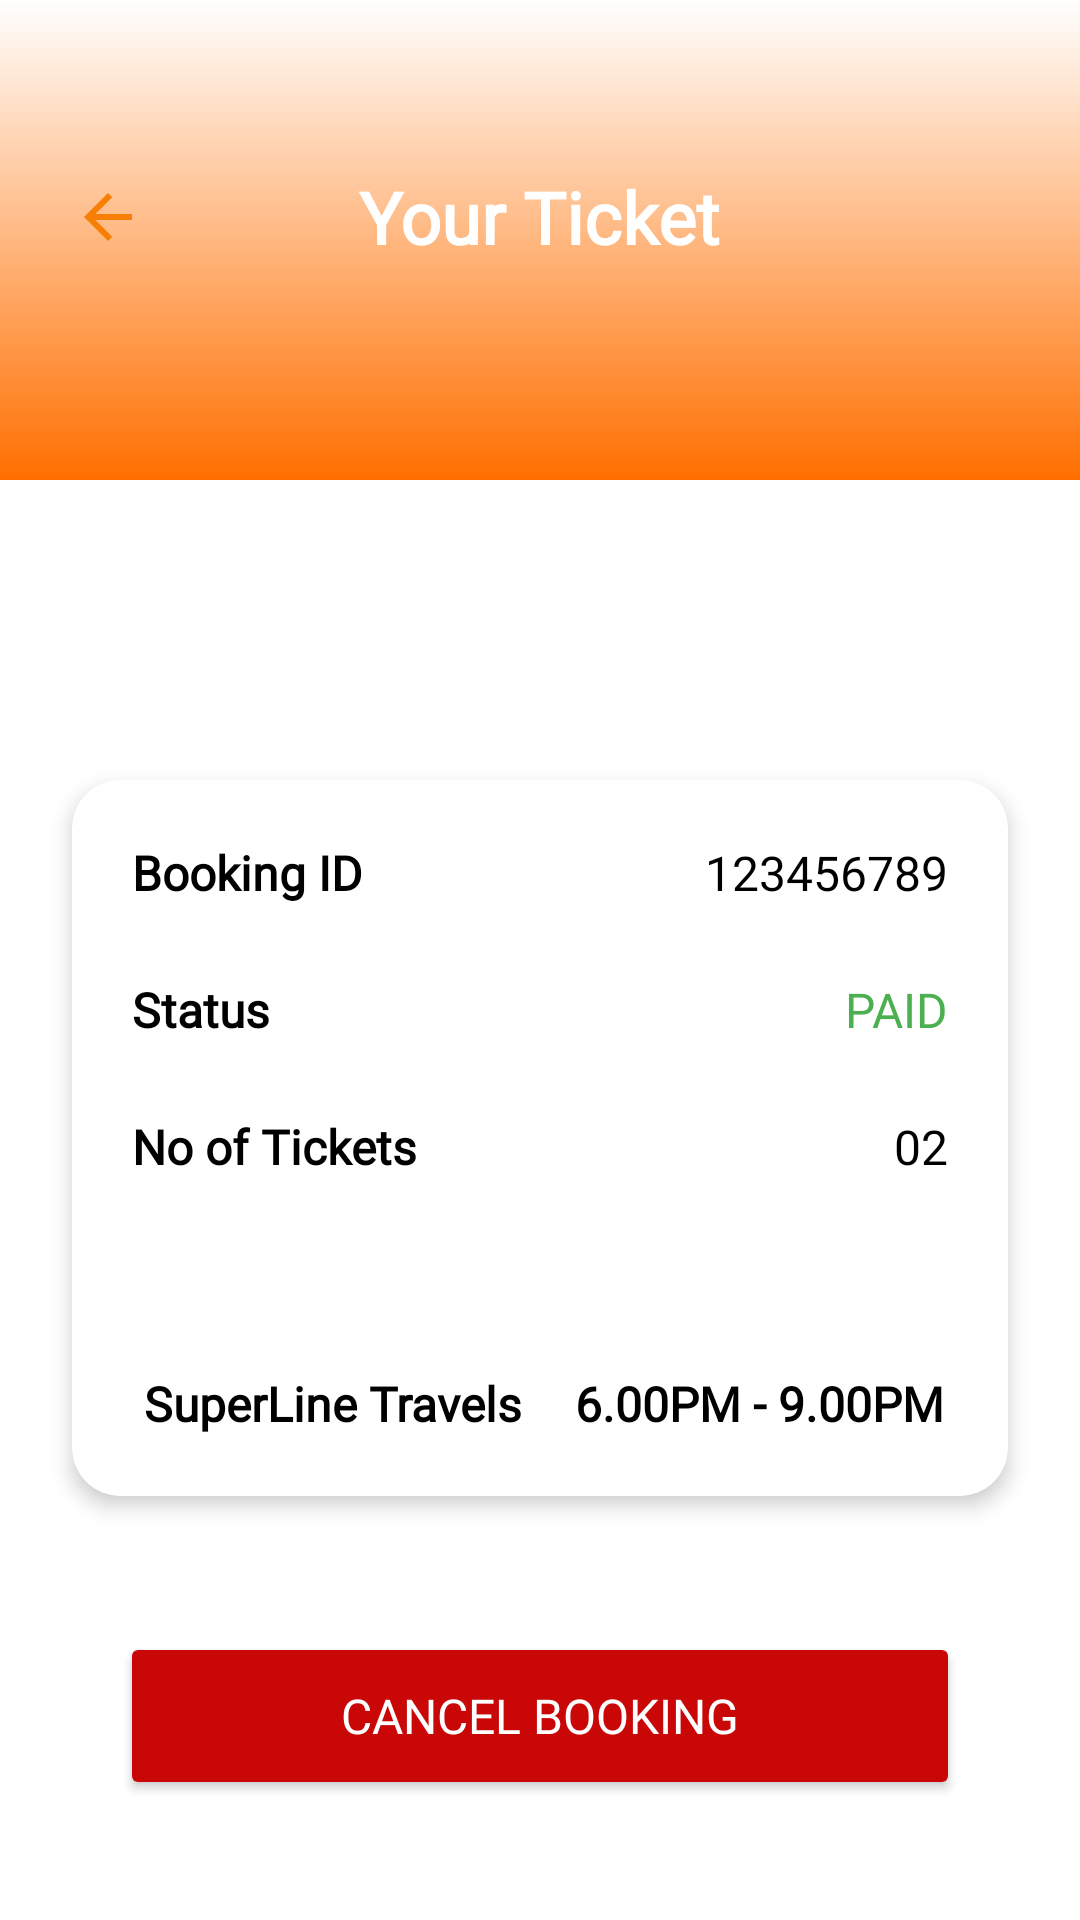

Named icons in this screenshot (1080 × 1920) and their centers, [x,y]:
arrow back: [108,217]
